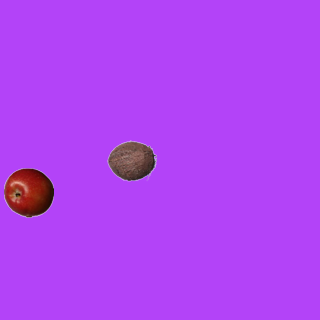Apple Braeburn: (3, 167, 53, 217)
Cocos: (106, 135, 156, 185)
